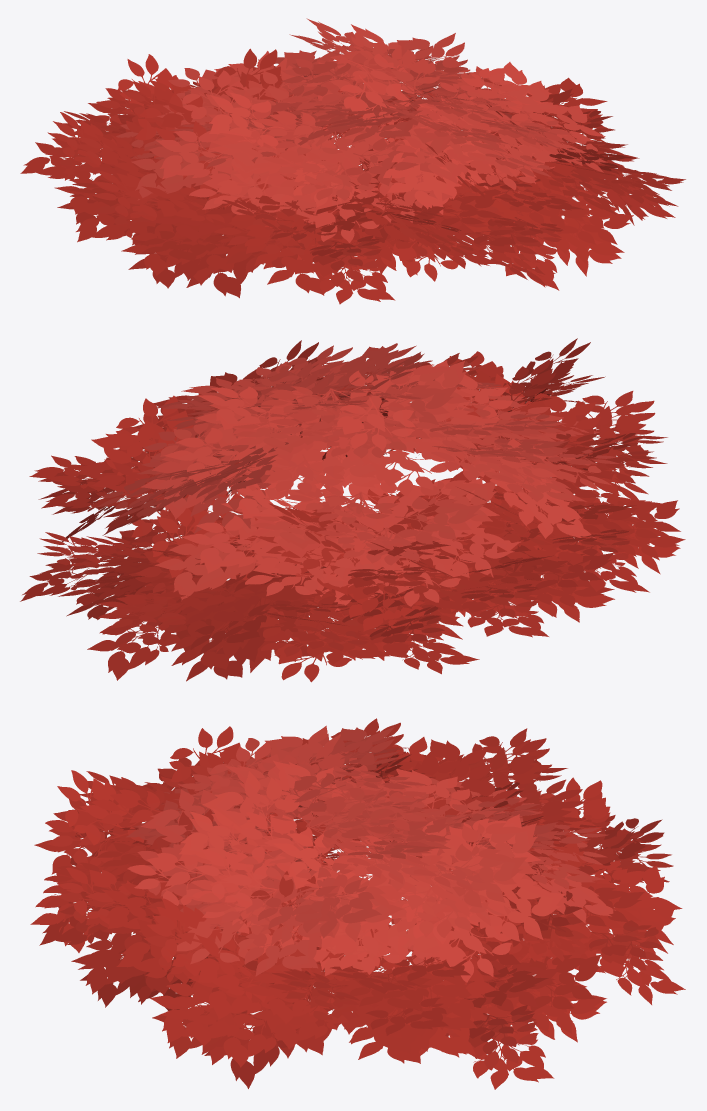
Rendered from BgMD_Field_ToonLeaf_V2.fbx.
3 renders of one model, top to bottom at view 1: azimuth 30°, elevation 25°; view 2: azimuth 150°, elevation 25°; view 3: azimuth 270°, elevation 25°, orthographic. The views are drawn at different scales.
Parts seen in each view (by area): view 1: SM_Leaves_leaf; view 2: SM_Leaves_leaf; view 3: SM_Leaves_leaf.
Boxes of the visible parts, x1,y1,x2,y2 form: SM_Leaves_leaf: [20, 18, 685, 304]; SM_Leaves_leaf: [20, 338, 685, 682]; SM_Leaves_leaf: [30, 718, 685, 1089].
Size of the model in its own units: 7.66 by 2.44 by 7.66.
